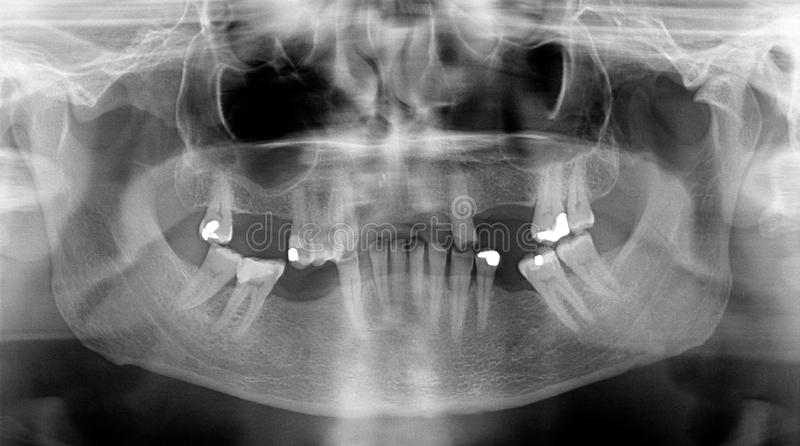incisor: (367, 228, 396, 337), (426, 225, 449, 342), (387, 228, 408, 344), (404, 231, 426, 333)
molar: (514, 246, 595, 341), (210, 257, 296, 334), (554, 232, 627, 301), (165, 243, 241, 307), (526, 162, 570, 249)
premolar: (188, 163, 236, 248), (563, 155, 606, 239), (282, 185, 322, 274), (332, 243, 366, 343), (450, 237, 472, 347), (479, 243, 498, 362)
